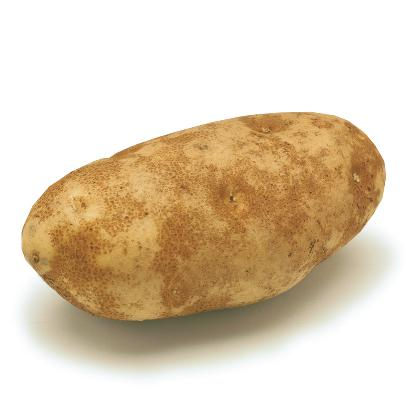potato: (21, 111, 384, 321)
